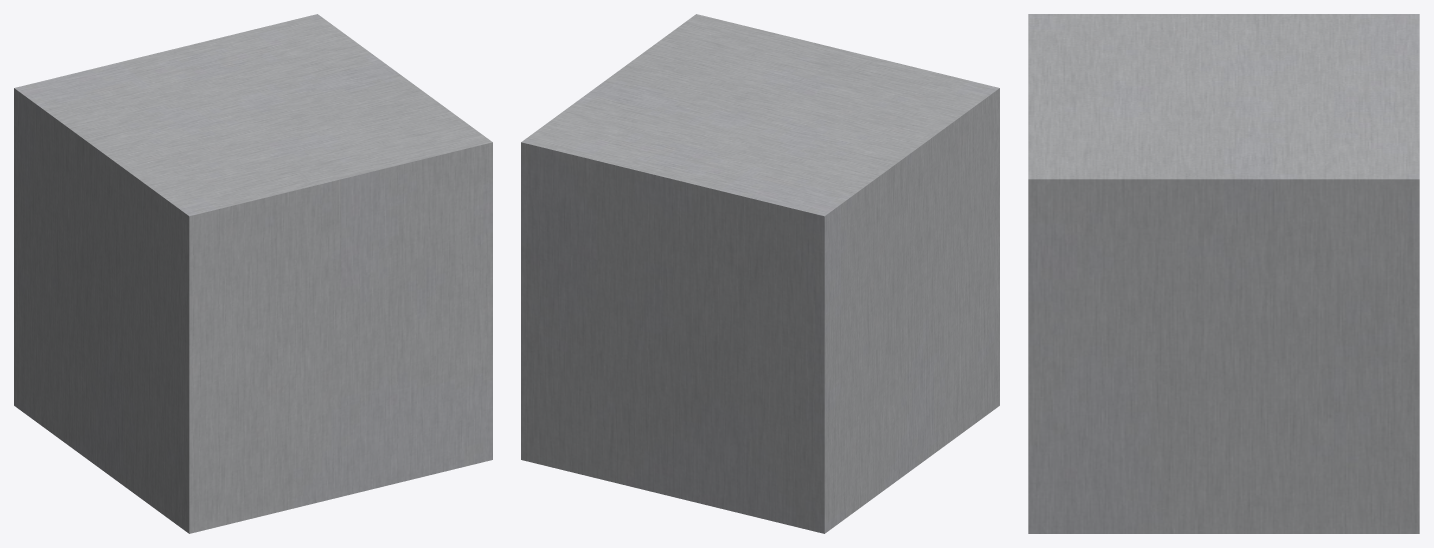
Rendered from simple5.glb.
3 renders of one model, left to right at view 1: azimuth 30°, elevation 25°; view 2: azimuth 150°, elevation 25°; view 3: azimuth 270°, elevation 25°, orthographic. The views are drawn at different scales.
Visible parts, largest first — view 1: Cube.001; view 2: Cube.001; view 3: Cube.001.
Boxes of the visible parts, box(x1,y1,x2,y2) form: Cube.001: box(14, 14, 492, 533); Cube.001: box(521, 14, 999, 533); Cube.001: box(1028, 14, 1419, 533).
Bounding box in the file's own units: 2 × 2 × 2.
2 materials, 2 textured.
